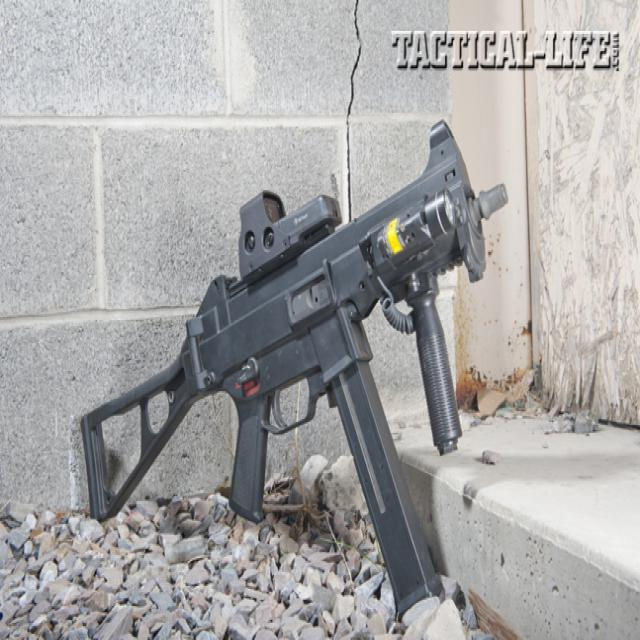SMG: (78, 122, 508, 640)
